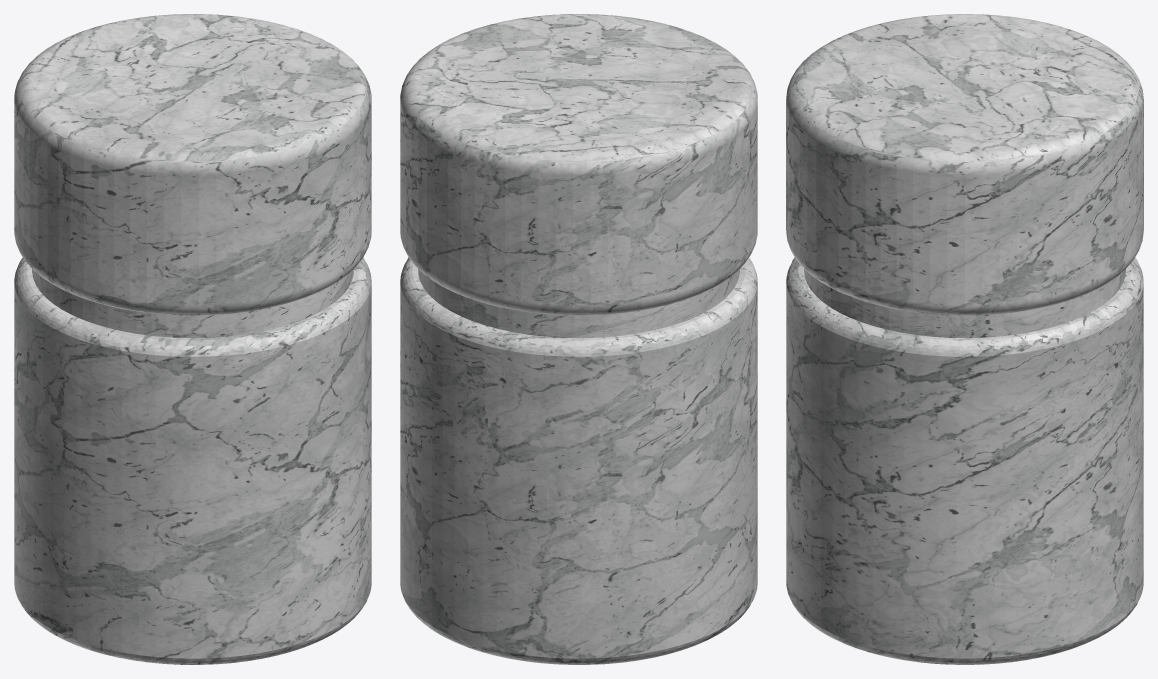
The model's file is shortLightFlatCylinder.glb.
3 renders of one model, left to right at view 1: azimuth 30°, elevation 25°; view 2: azimuth 150°, elevation 25°; view 3: azimuth 270°, elevation 25°, orthographic.
Parts seen in each view (by area): view 1: shortLightFlatCylinder; view 2: shortLightFlatCylinder; view 3: shortLightFlatCylinder.
Part boxes in pixels (x1,y1,x2,y2): shortLightFlatCylinder: (14,14,371,664); shortLightFlatCylinder: (400,14,757,664); shortLightFlatCylinder: (786,14,1143,664).
Bounding box in the file's own units: 2 × 3.15 × 2.
3 materials, 3 textured.
